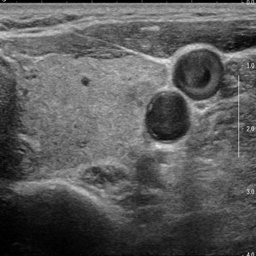mass: (123, 57, 168, 90)
